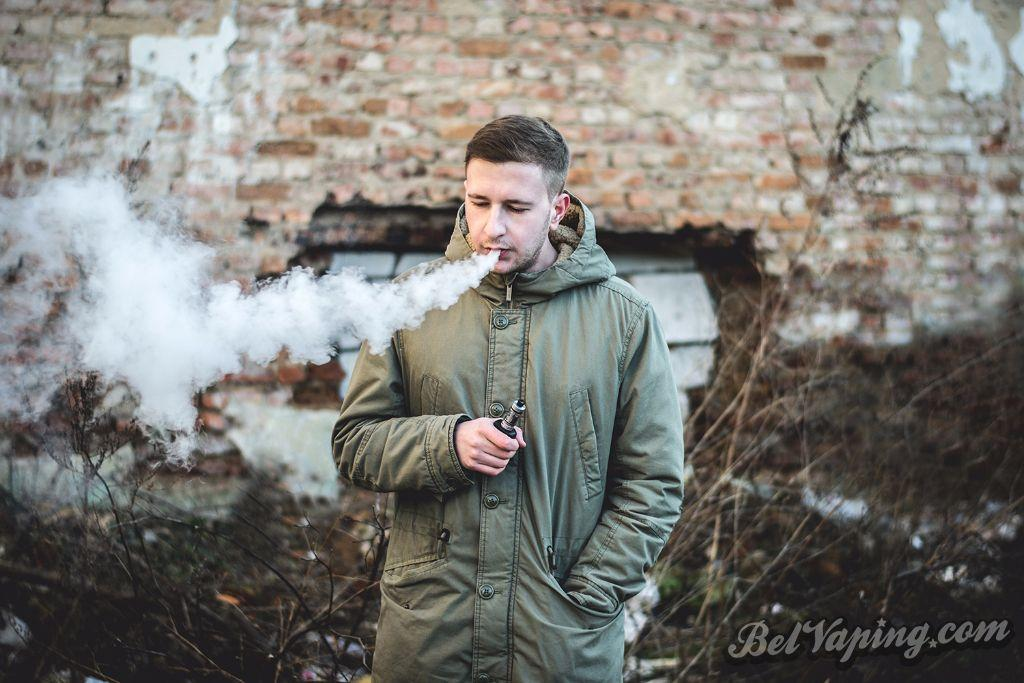Vape: (493, 399, 525, 438)
